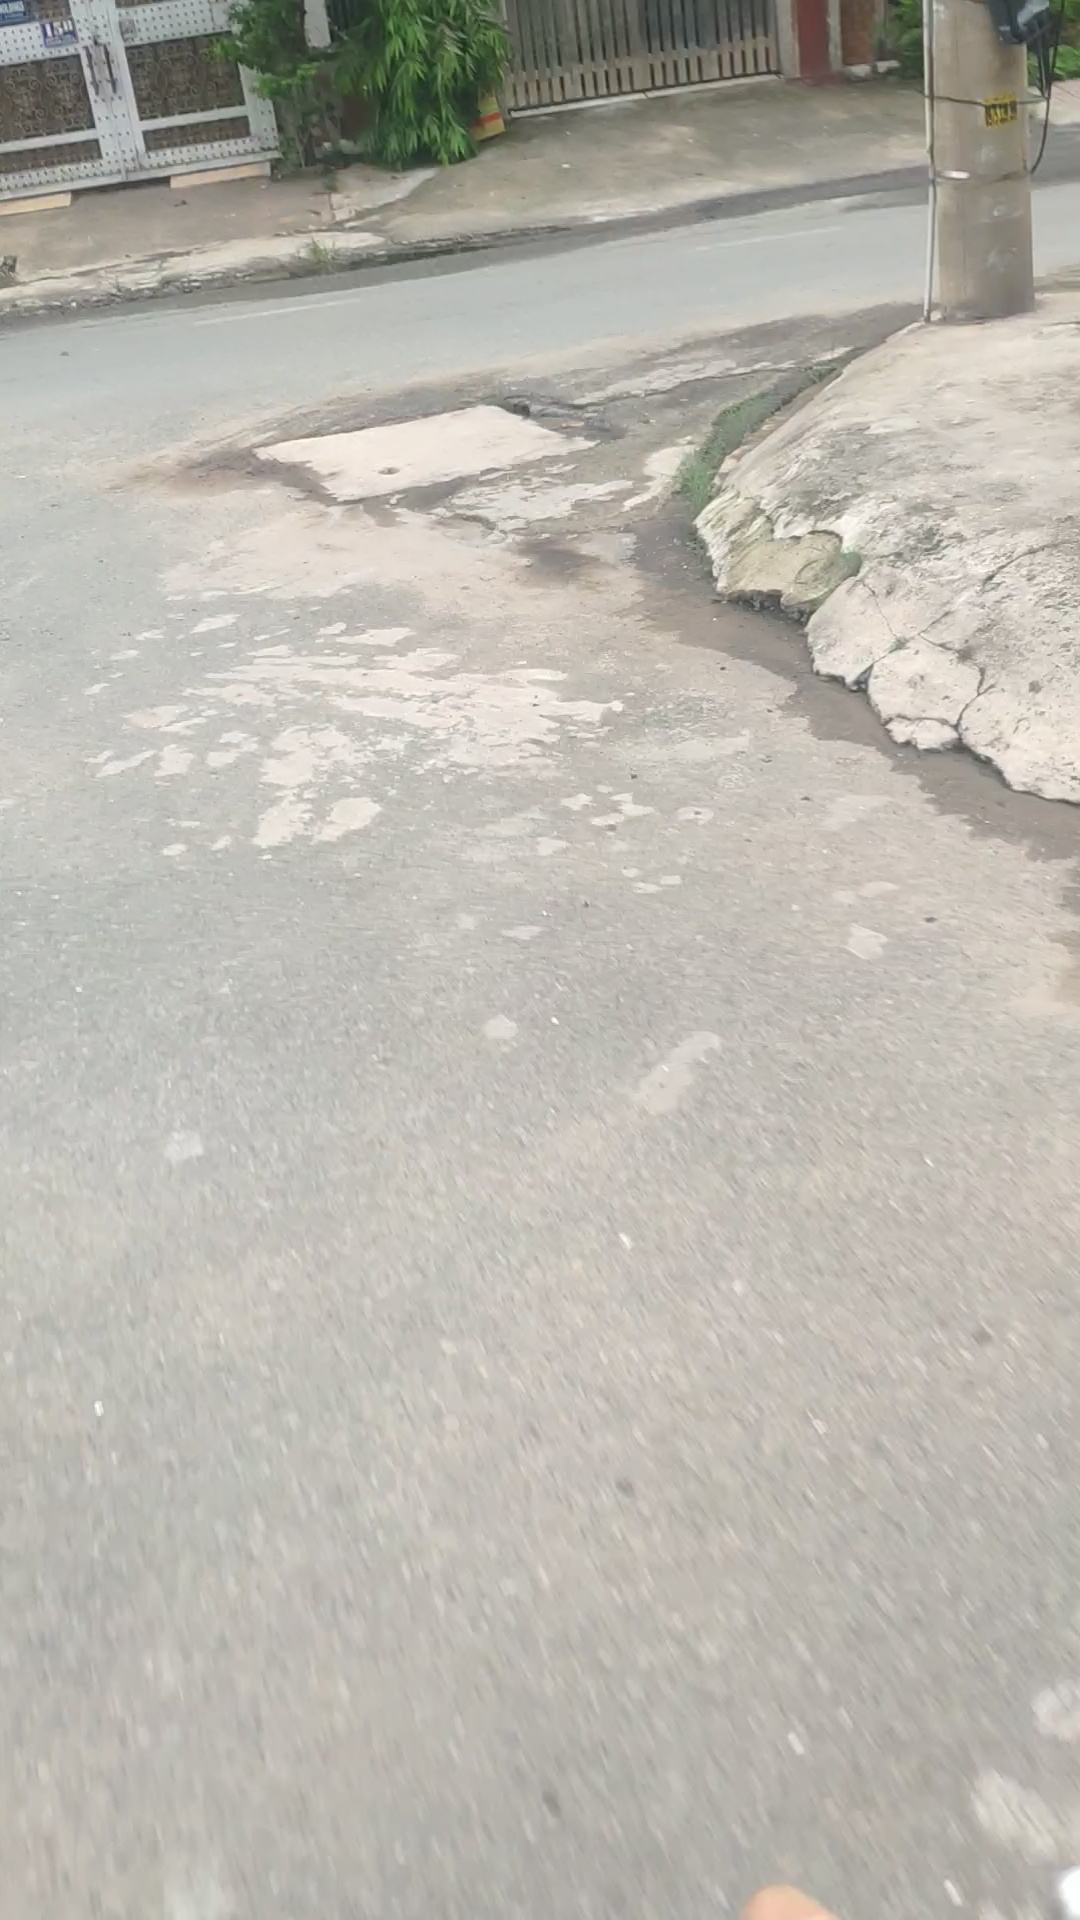hole: (485, 382, 628, 450)
